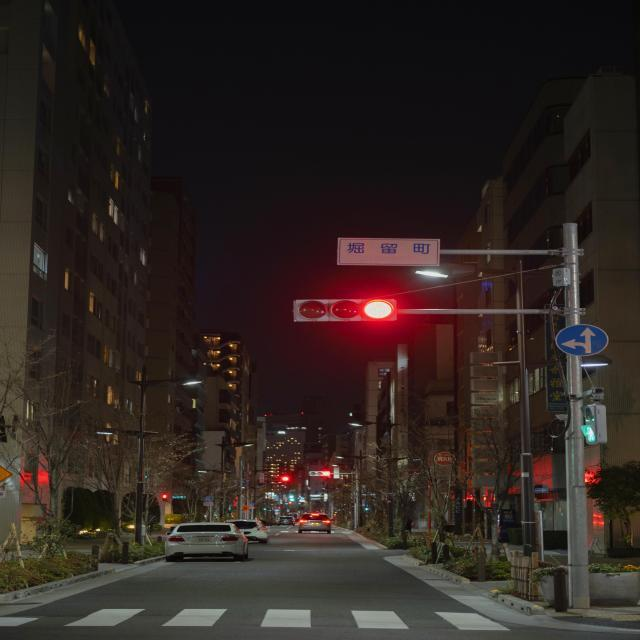red: (364, 294, 398, 326)
